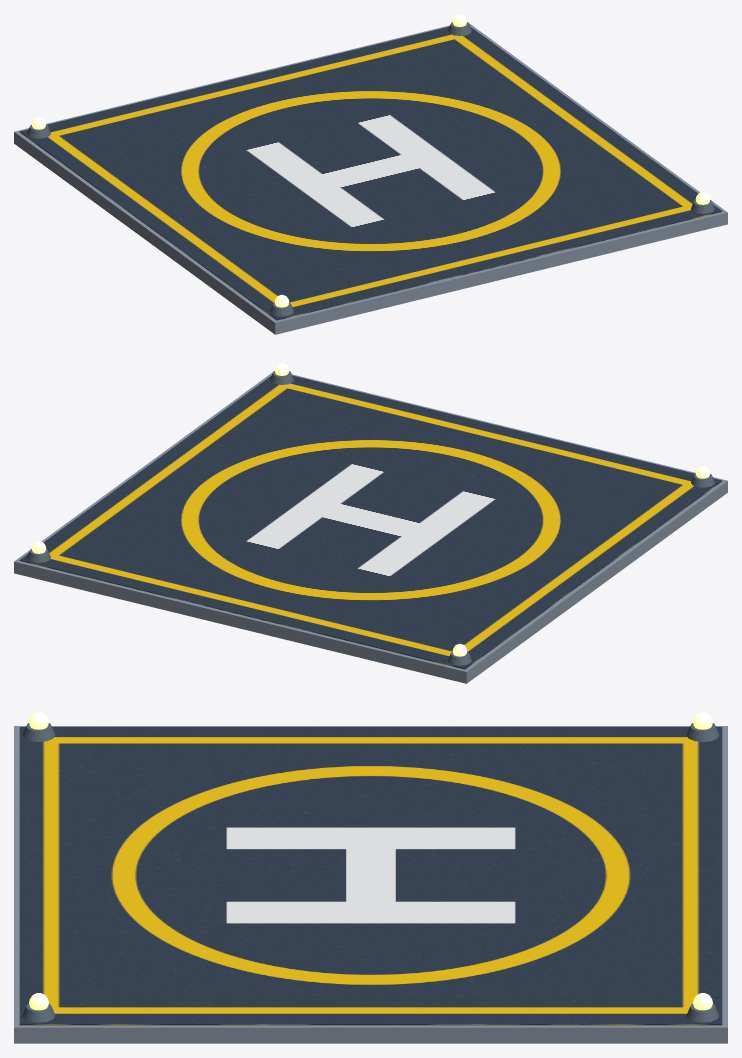
Rendered from helipad_H_platform.glb.
3 renders of one model, top to bottom at view 1: azimuth 30°, elevation 25°; view 2: azimuth 150°, elevation 25°; view 3: azimuth 270°, elevation 25°, orthographic. The views are drawn at different scales.
Parts seen in each view (by area): view 1: helipad_H_platform; view 2: helipad_H_platform; view 3: helipad_H_platform.
Boxes of the visible parts, x1,y1,x2,y2 form: helipad_H_platform: (14,14,727,334); helipad_H_platform: (14,363,727,683); helipad_H_platform: (14,712,727,1043).
Size of the model in its own units: 10 by 0.61 by 10.
4 materials, 1 textured.
